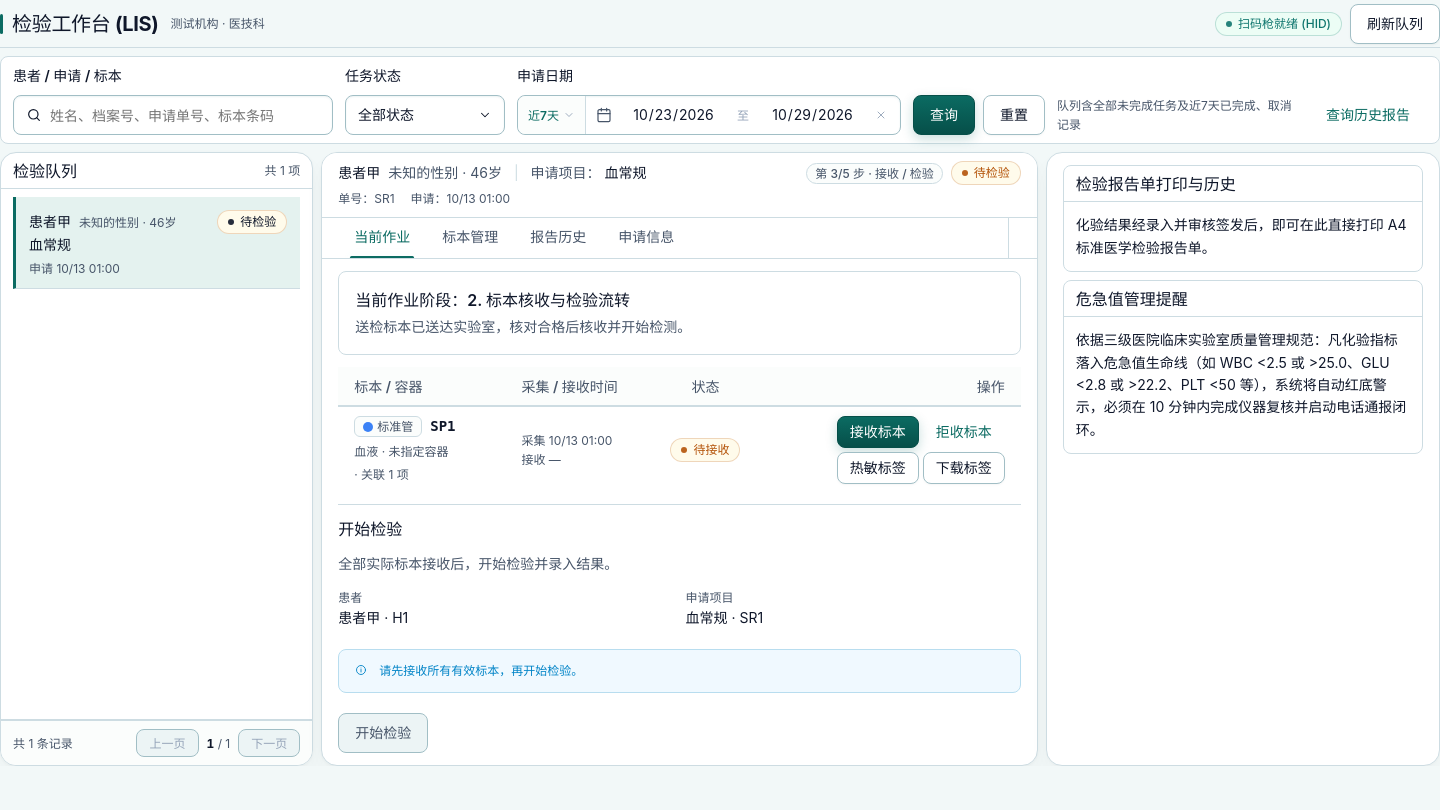
Test: simple diagnostic business workbench › asks for a rejection reason only after choosing a tube and preserves it after failure
expect the field labelled "拒收原因" is not shown: met
Click the button "拒收标本": (964, 432) 923,416 -> 1005,448
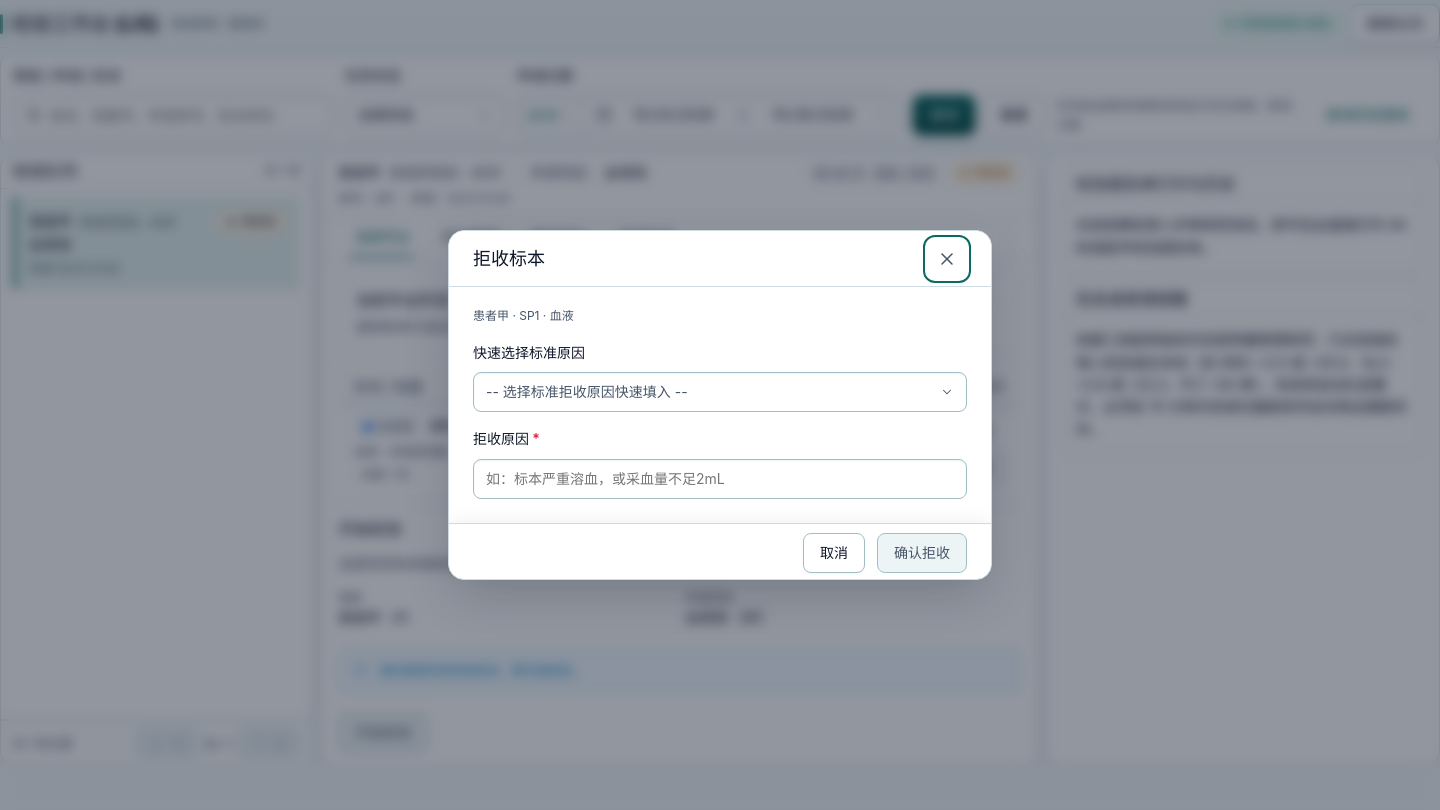
expect the dialog "拒收标本" shows "SP1": met, box 473,308 -> 574,323
expect the button "确认拒收" is disabled: met, box 877,533 -> 967,573
In the field labelled "拒收原因*": (720, 479) 473,459 -> 967,499, type "标本溶血"
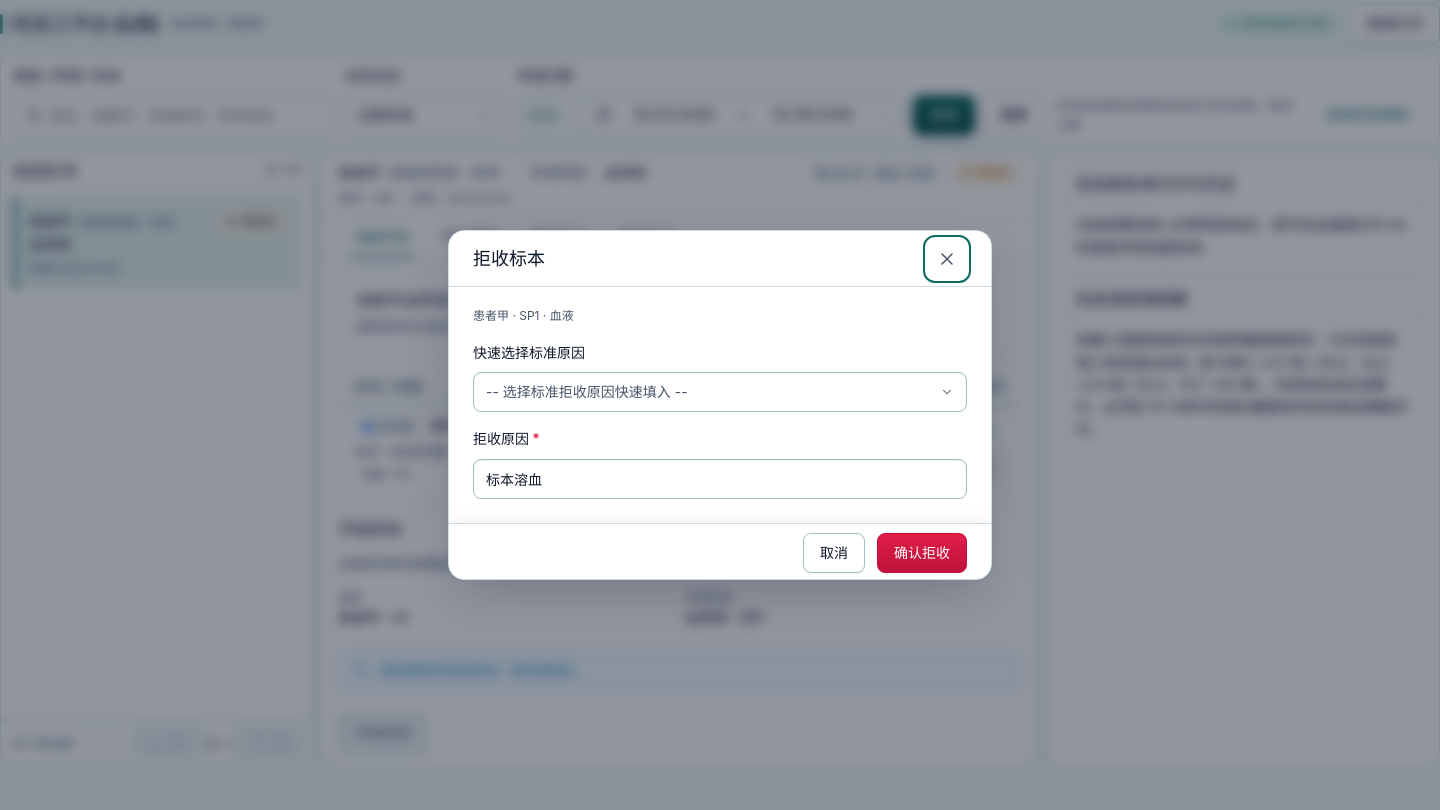
Click the button "确认拒收": (922, 553) 877,533 -> 967,573
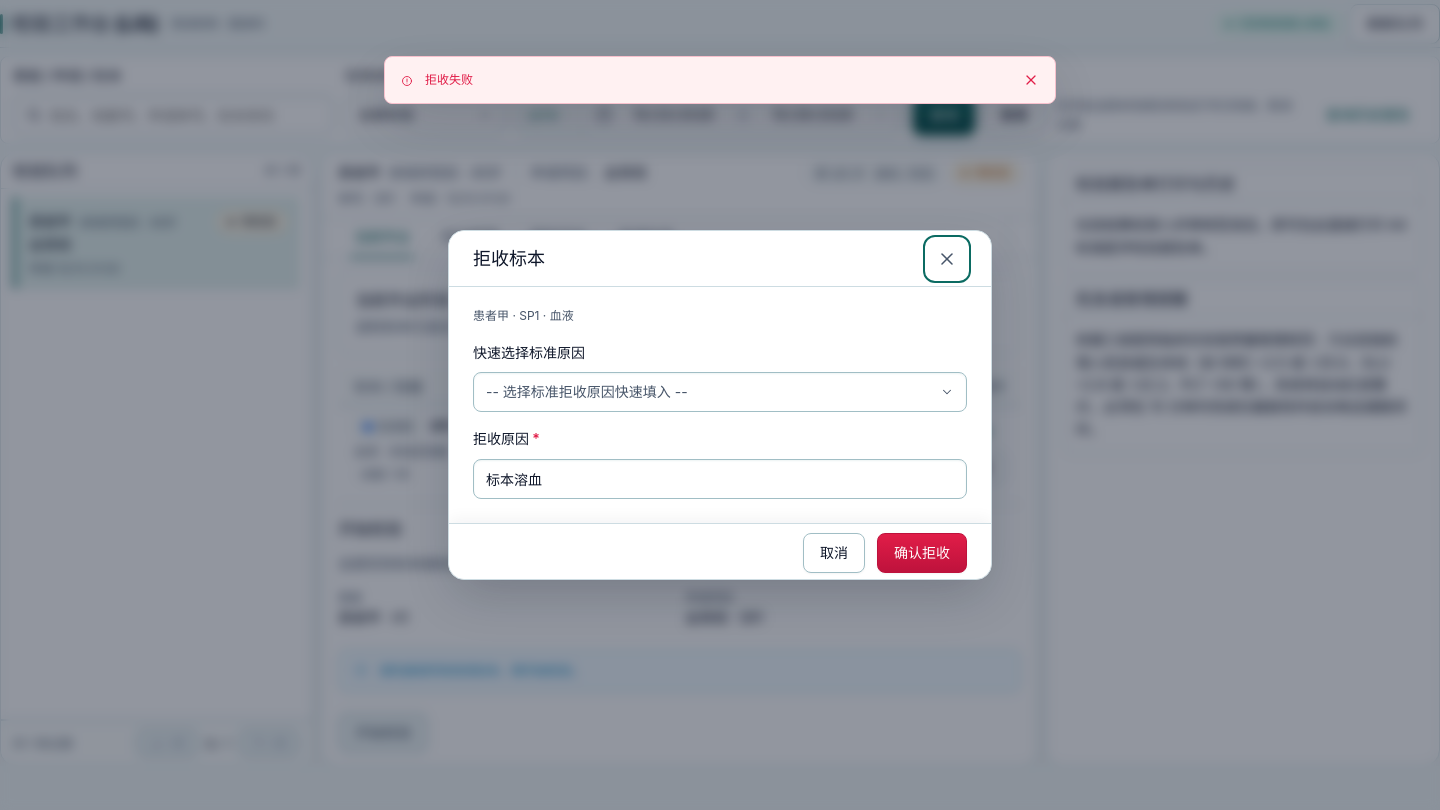
expect the button "确认拒收" is enabled: met
expect the text "拒收失败" is shown: met, box 425,72 -> 473,87
Click the button "确认拒收": (922, 553) 877,533 -> 967,573
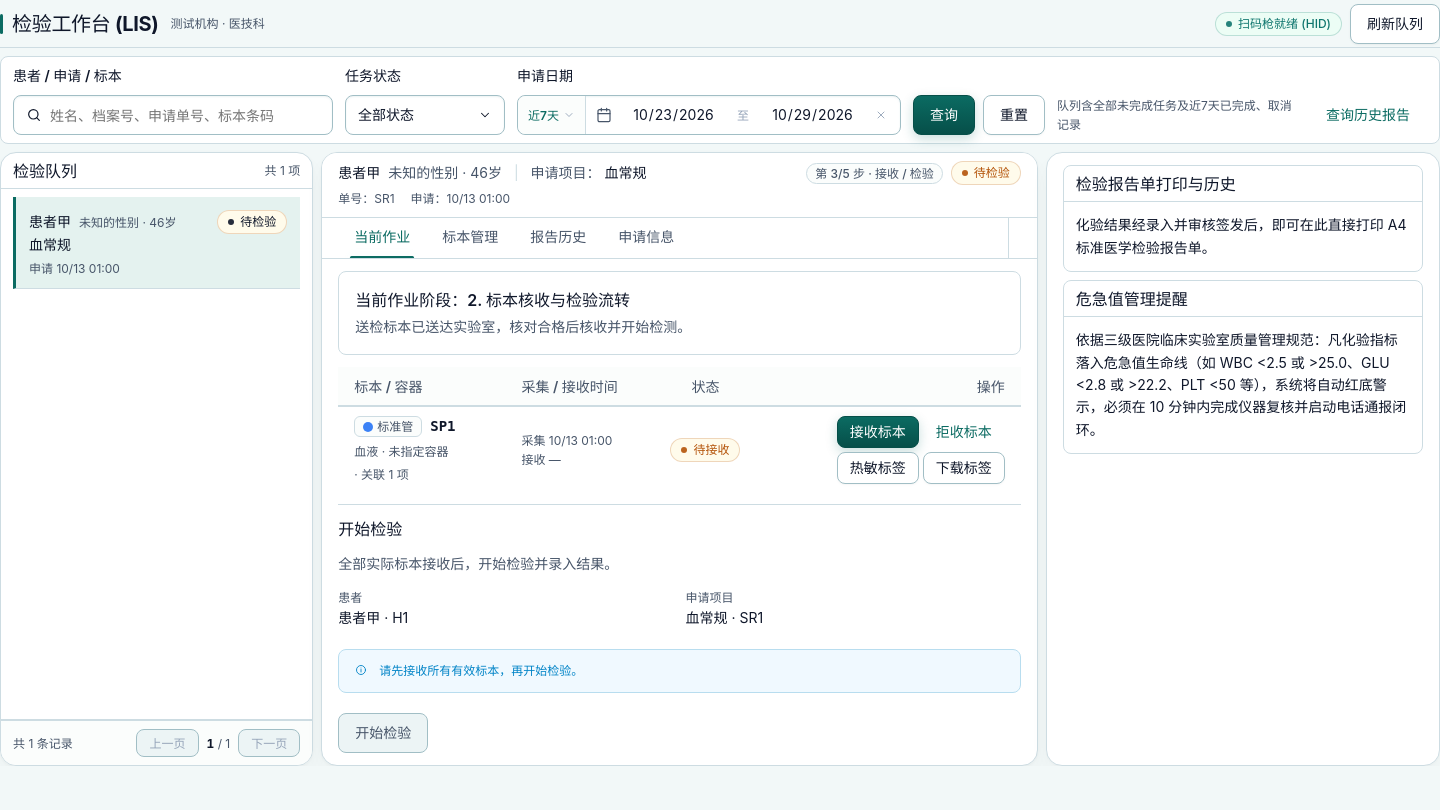
expect the dialog is gone: met
